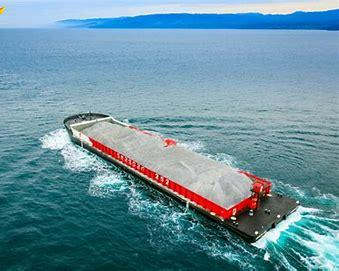Ship: (63, 109, 305, 245)
